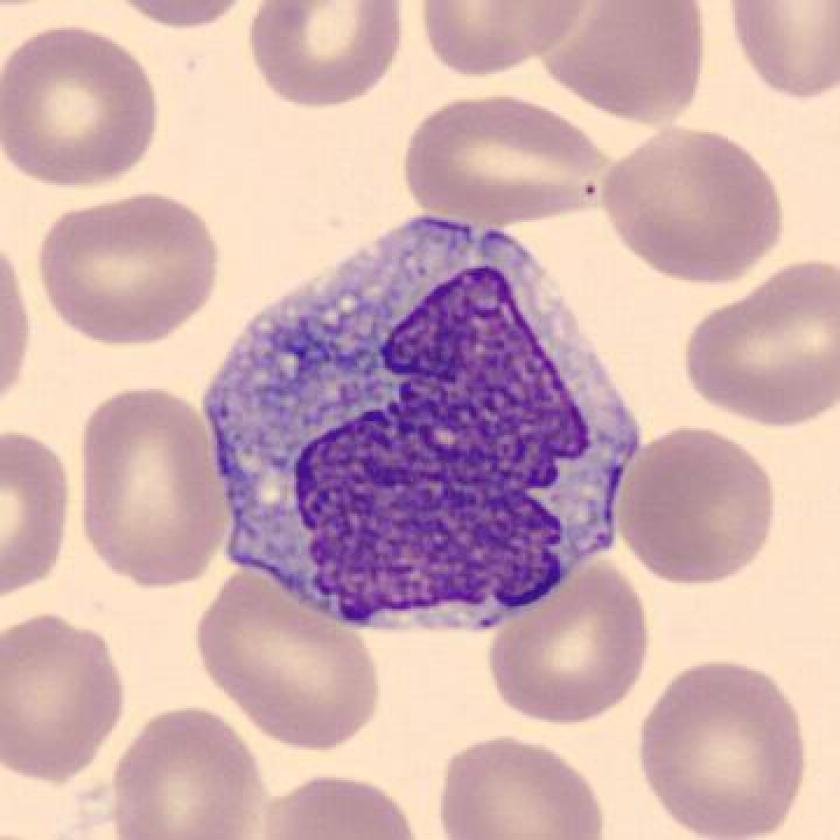monocyte: (185, 196, 657, 645)
